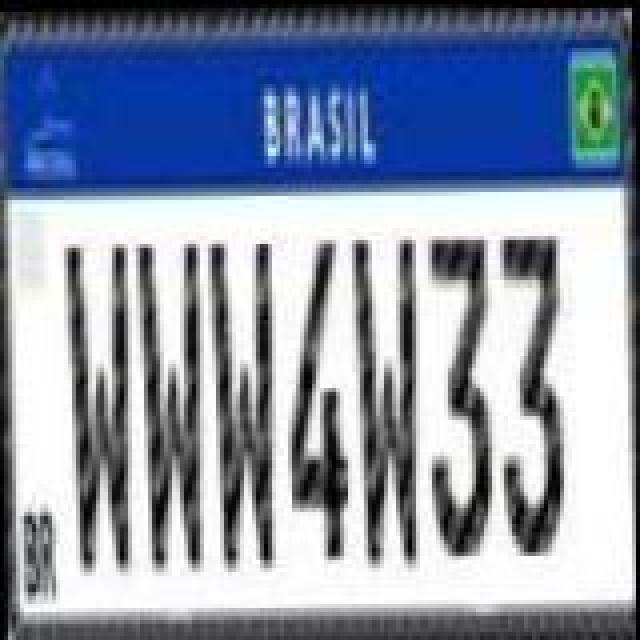3: (488, 220, 568, 560), (418, 224, 494, 564)
4: (274, 232, 350, 560)
W: (128, 238, 208, 578), (200, 226, 280, 566), (58, 240, 134, 580), (346, 232, 422, 572)
